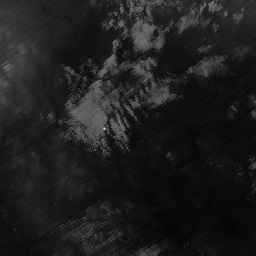Target: (102, 125, 108, 131)
